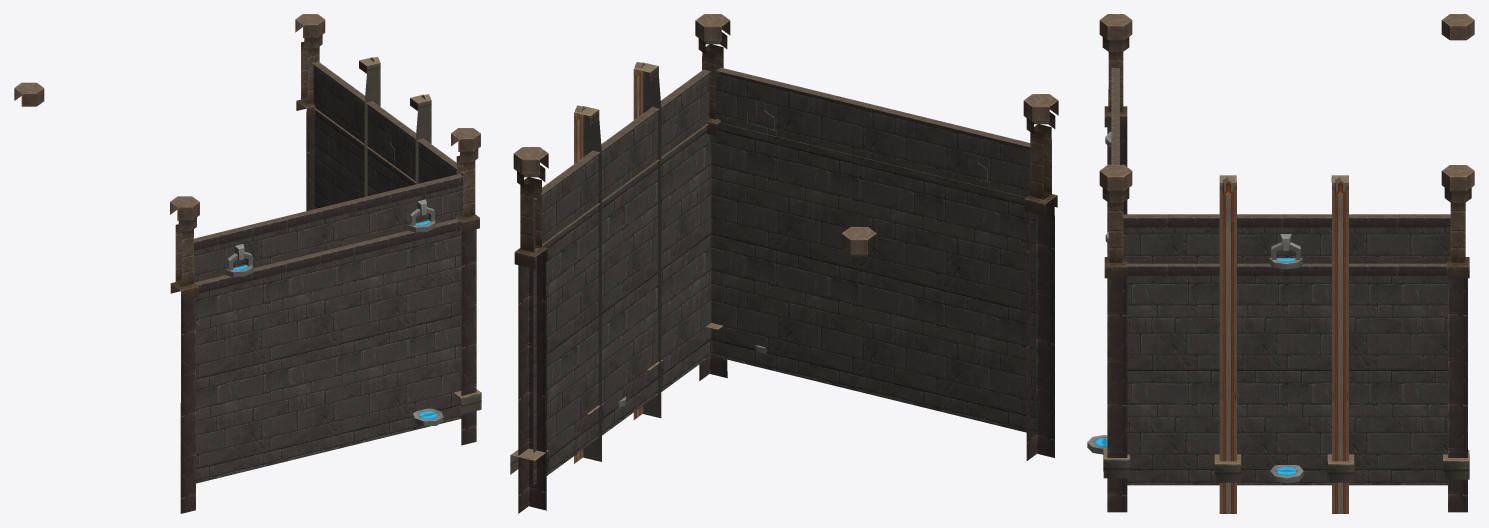
Rendered from terrain_section03_guanka1109.FBX.
3 renders of one model, left to right at view 1: azimuth 30°, elevation 25°; view 2: azimuth 150°, elevation 25°; view 3: azimuth 270°, elevation 25°, orthographic. The views are drawn at different scales.
Visible parts, largest first — view 1: terrain_section03_guanka1109; view 2: terrain_section03_guanka1109; view 3: terrain_section03_guanka1109.
Part boxes in pixels (x1=…): terrain_section03_guanka1109: x1=14, y1=14, x2=481, y2=513; terrain_section03_guanka1109: x1=510, y1=14, x2=1058, y2=513; terrain_section03_guanka1109: x1=1087, y1=14, x2=1474, y2=513.
Bounding box in the file's own units: 32.18 × 29.79 × 30.95.
